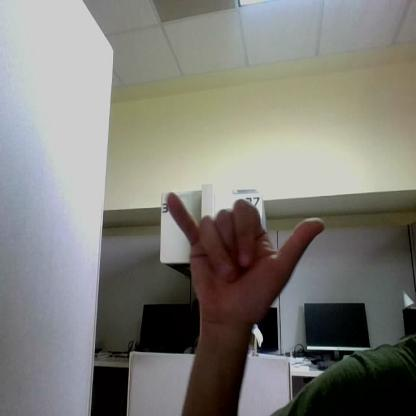Y: (168, 193, 324, 322)
